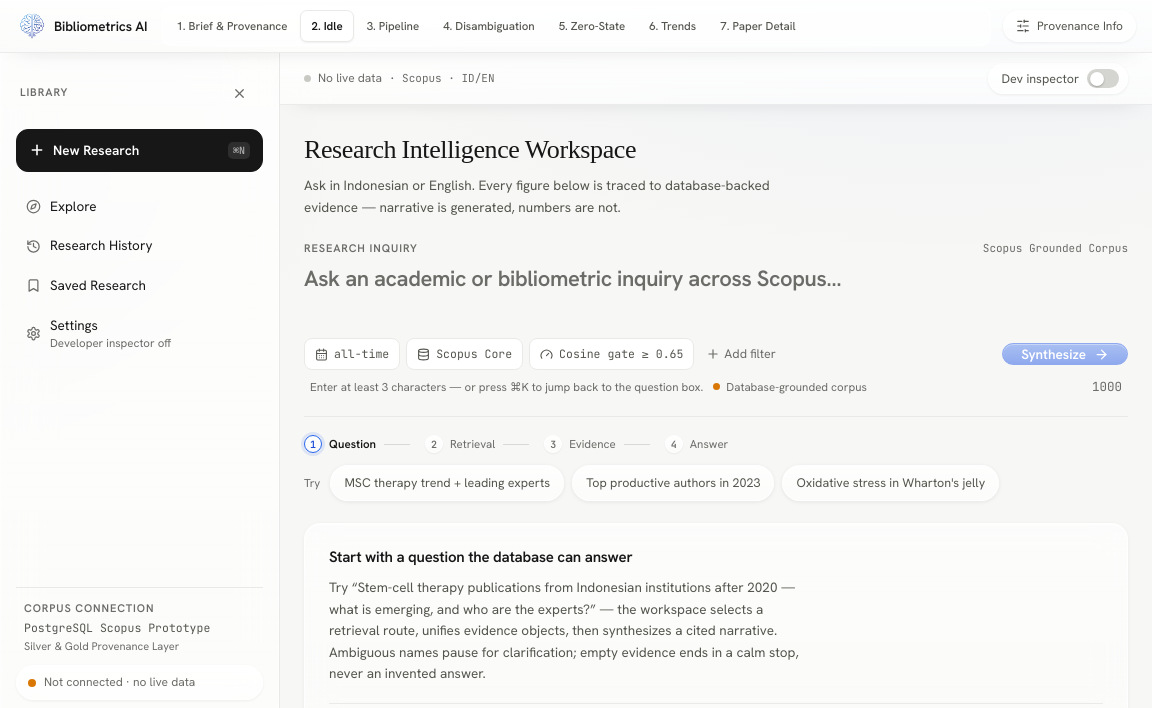
Scenario: P0-A: fixture replay controls are dev-only › hides the Load-example buttons in the default UI
Step 1. Type "MSC therapy trend in Indonesia after 2020?" into the text box named "research question" → (716, 293), box [304, 265, 1128, 321]
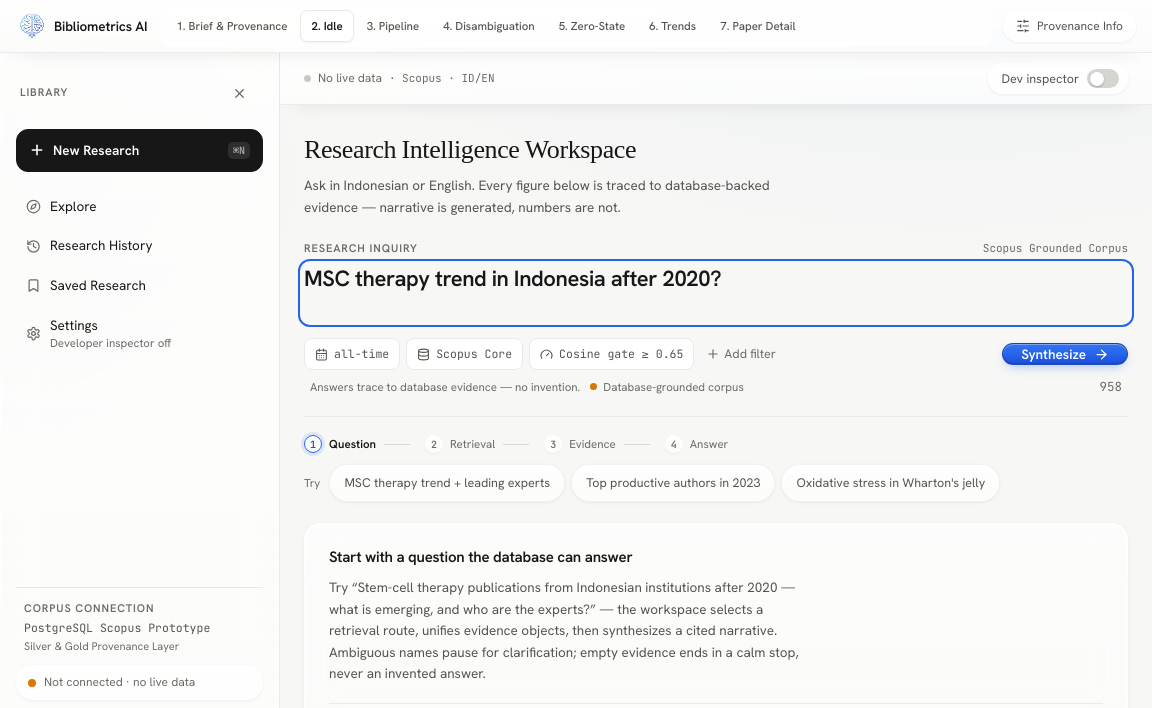
Step 2. Click the button "Synthesize" → click(1065, 354), box [1002, 342, 1128, 365]
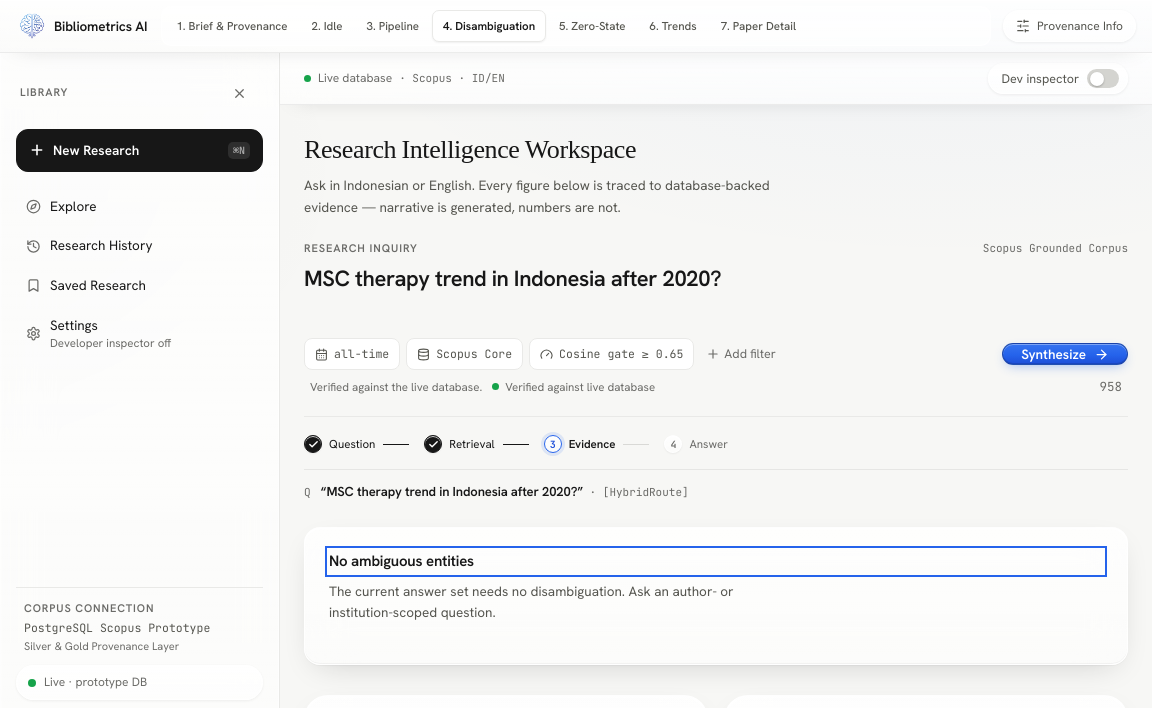
Check: the heading "No ambiguous entities" is shown, box [329, 550, 474, 570]
